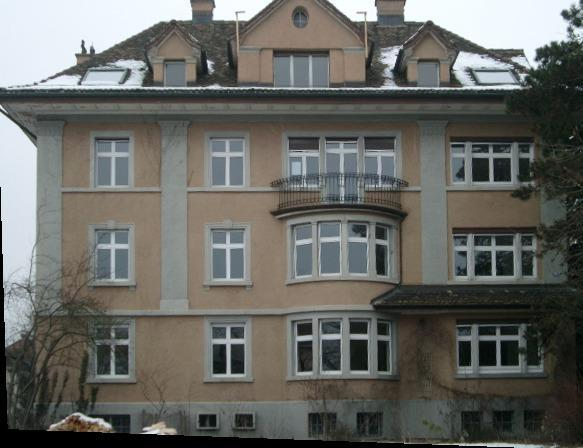window: (274, 49, 330, 89), (326, 137, 359, 204), (478, 325, 521, 374), (95, 324, 130, 379), (212, 324, 247, 379), (211, 230, 246, 283), (471, 143, 514, 186), (474, 235, 517, 278), (95, 230, 129, 283), (95, 138, 130, 189), (211, 137, 245, 188), (364, 137, 397, 188), (287, 138, 321, 187), (348, 220, 371, 277), (320, 317, 343, 374), (349, 318, 372, 375), (319, 222, 341, 278), (293, 320, 314, 376), (293, 223, 312, 280), (87, 416, 132, 439), (378, 320, 395, 377), (376, 222, 392, 279), (457, 324, 474, 374), (526, 326, 543, 372), (521, 234, 538, 279), (453, 235, 470, 280), (518, 144, 534, 185), (451, 143, 467, 184), (311, 413, 337, 438), (164, 60, 187, 88), (418, 60, 441, 88), (358, 413, 384, 437), (82, 71, 125, 85), (476, 71, 515, 85), (493, 411, 513, 434), (525, 410, 545, 433), (463, 411, 483, 434), (293, 5, 310, 30), (236, 414, 254, 428), (200, 414, 217, 428)
